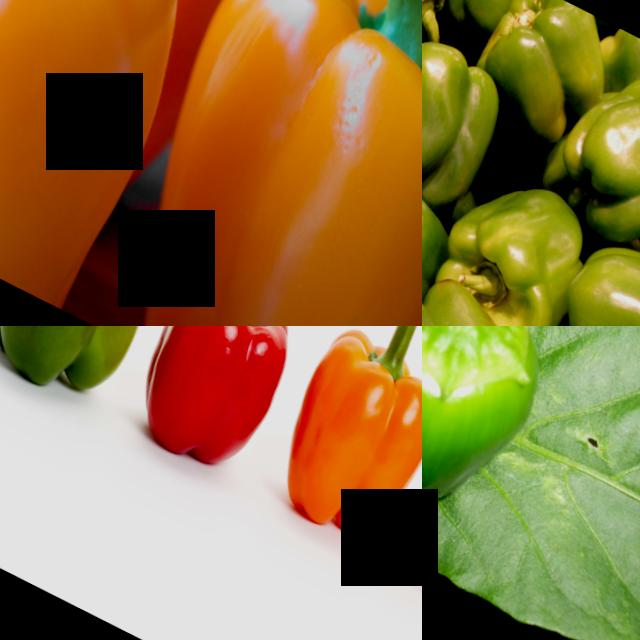bell pepper: (23, 0, 422, 326), (0, 0, 299, 326), (81, 326, 369, 510), (230, 326, 422, 553), (422, 326, 593, 575), (425, 153, 595, 320), (0, 326, 230, 445), (349, 330, 422, 640), (473, 0, 625, 135), (422, 14, 517, 211), (549, 48, 640, 244), (526, 218, 640, 326)
